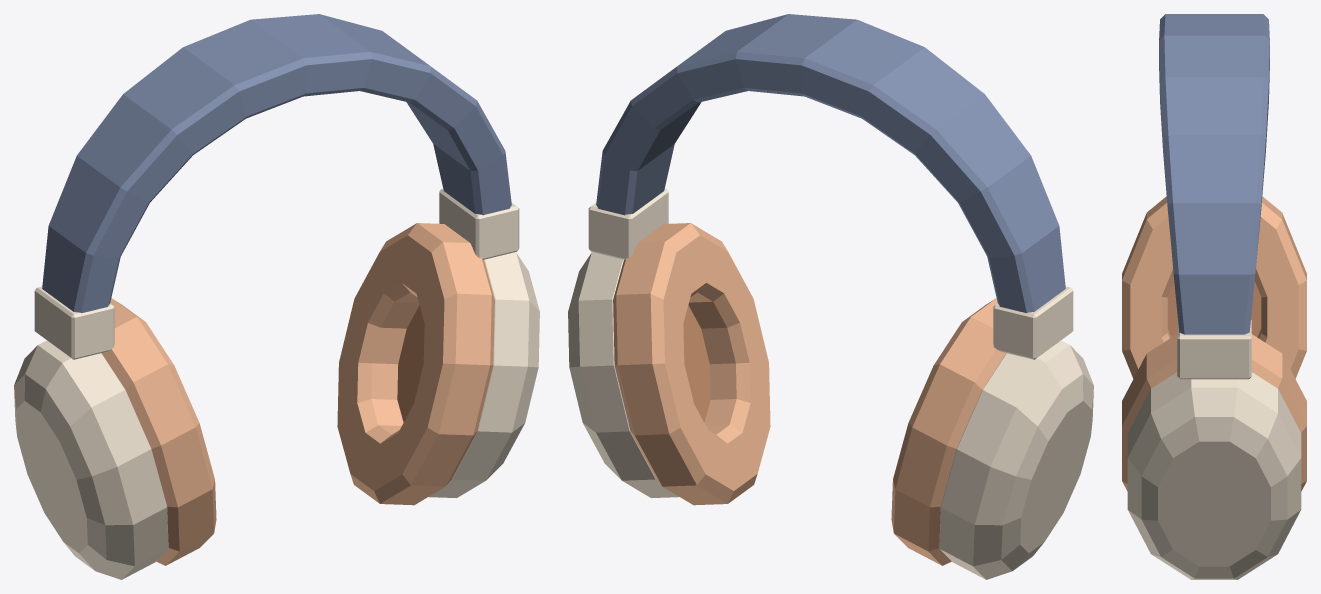
The model's file is headphones.glb.
The picture shows the model from 3 angles, left to right: view 1: azimuth 30°, elevation 25°; view 2: azimuth 150°, elevation 25°; view 3: azimuth 270°, elevation 25°; orthographic projection. The views are drawn at different scales.
Visible parts, largest first — view 1: 01 灰蓝色多面头梁, 右 耳垫 · 蜜桃色, 左 耳罩 · 米白外壳, 左 耳垫 · 蜜桃色, 右 耳罩 · 米白外壳, 左 米白调节扣, 右 米白调节扣, 右 内侧织物; view 2: 01 灰蓝色多面头梁, 右 耳垫 · 蜜桃色, 左 耳罩 · 米白外壳, 左 耳垫 · 蜜桃色, 右 耳罩 · 米白外壳, 左 米白调节扣, 右 米白调节扣, 右 内侧织物; view 3: 01 灰蓝色多面头梁, 右 耳罩 · 米白外壳, 左 耳垫 · 蜜桃色, 右 耳垫 · 蜜桃色, 右 米白调节扣, 左 内侧织物.
Boxes of the visible parts, <box> form: 01 灰蓝色多面头梁: <box>42,14,511,313</box>; 右 耳垫 · 蜜桃色: <box>337,223,494,505</box>; 左 耳罩 · 米白外壳: <box>14,340,168,579</box>; 左 耳垫 · 蜜桃色: <box>101,298,216,565</box>; 右 耳罩 · 米白外壳: <box>429,252,539,498</box>; 左 米白调节扣: <box>34,286,114,359</box>; 右 米白调节扣: <box>439,188,519,259</box>; 右 内侧织物: <box>397,305,424,422</box>; 01 灰蓝色多面头梁: <box>596,14,1065,313</box>; 右 耳垫 · 蜜桃色: <box>613,223,770,505</box>; 左 耳罩 · 米白外壳: <box>939,340,1093,579</box>; 左 耳垫 · 蜜桃色: <box>891,298,1006,565</box>; 右 耳罩 · 米白外壳: <box>568,252,678,498</box>; 左 米白调节扣: <box>993,286,1073,359</box>; 右 米白调节扣: <box>588,188,668,259</box>; 右 内侧织物: <box>683,305,710,422</box>; 01 灰蓝色多面头梁: <box>1159,14,1269,334</box>; 右 耳罩 · 米白外壳: <box>1127,372,1301,579</box>; 左 耳垫 · 蜜桃色: <box>1122,196,1306,378</box>; 右 耳垫 · 蜜桃色: <box>1122,334,1306,491</box>; 右 米白调节扣: <box>1177,320,1251,379</box>; 左 内侧织物: <box>1167,281,1261,337</box>.
Size of the model in its own units: 2.8 by 2.69 by 0.967.
